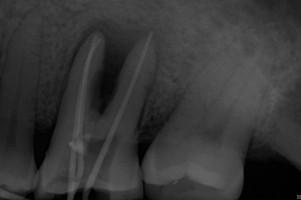Dental Caries: (71, 19, 155, 113)
